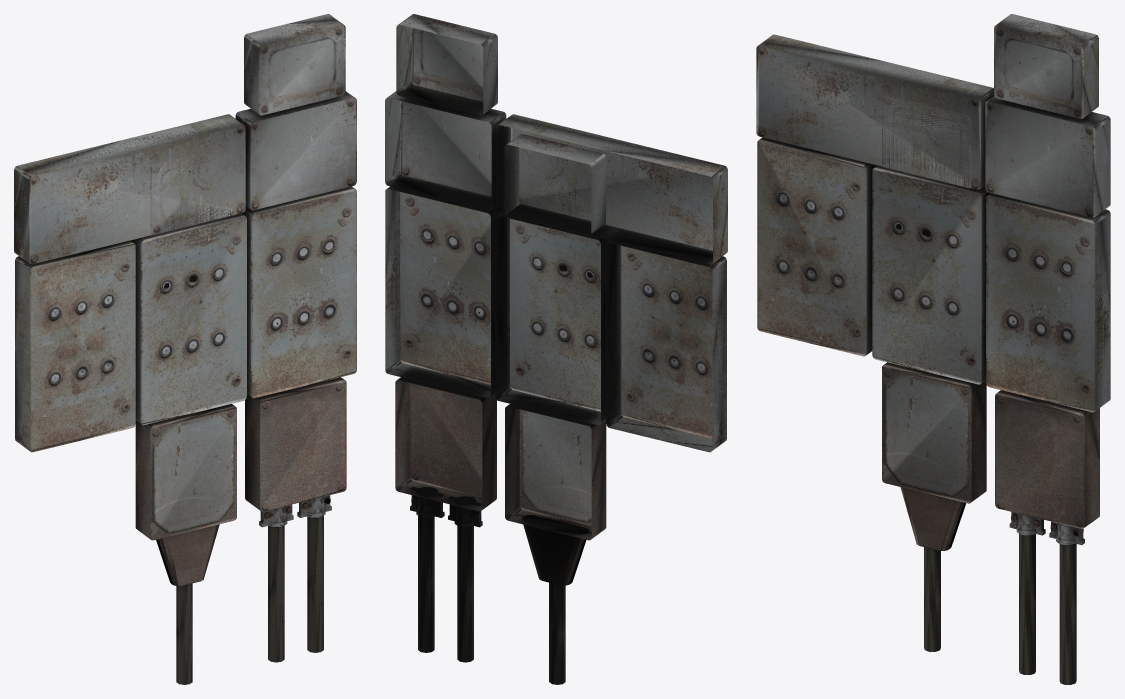
The model's file is fuse_box_0013.fbx.
3 views of the same model, side by side, from view 1: azimuth 30°, elevation 25°; view 2: azimuth 150°, elevation 25°; view 3: azimuth 330°, elevation 25° (orthographic). The views are drawn at different scales.
Parts seen in each view (by area): view 1: Mesh, Mesh_ncl1_2; view 2: Mesh, Mesh_ncl1_2; view 3: Mesh, Mesh_ncl1_2.
Boxes of the visible parts, x1,y1,x2,y2 form: Mesh: [14, 14, 356, 684]; Mesh_ncl1_2: [150, 146, 236, 235]; Mesh: [385, 14, 727, 684]; Mesh_ncl1_2: [504, 134, 605, 235]; Mesh: [756, 14, 1110, 684]; Mesh_ncl1_2: [882, 94, 971, 188].
Bounding box in the file's own units: 72.84 × 133 × 5.66.
